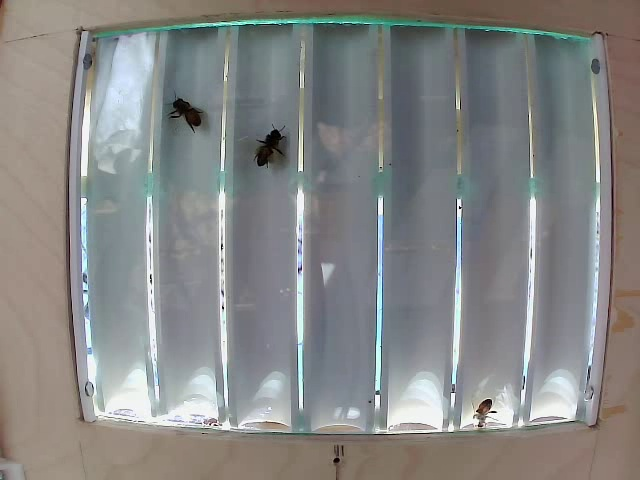bee: (167, 84, 211, 144), (253, 127, 292, 177), (469, 385, 511, 428)
